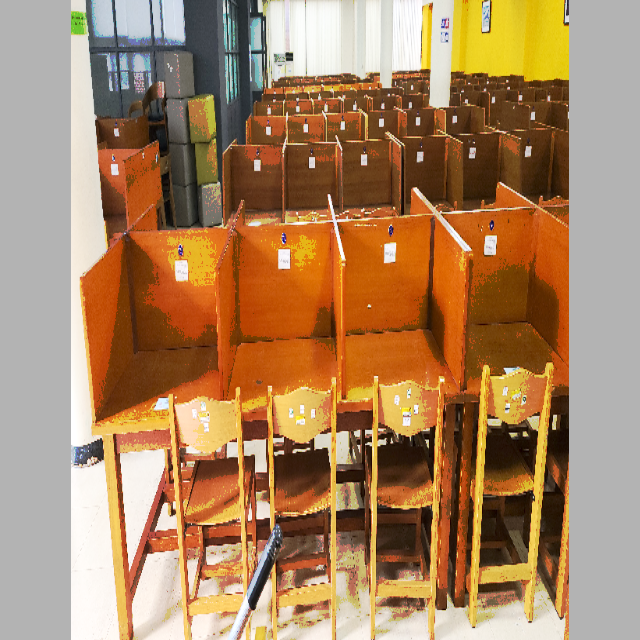empty: (87, 232, 216, 490), (345, 214, 467, 476), (223, 228, 338, 481)
